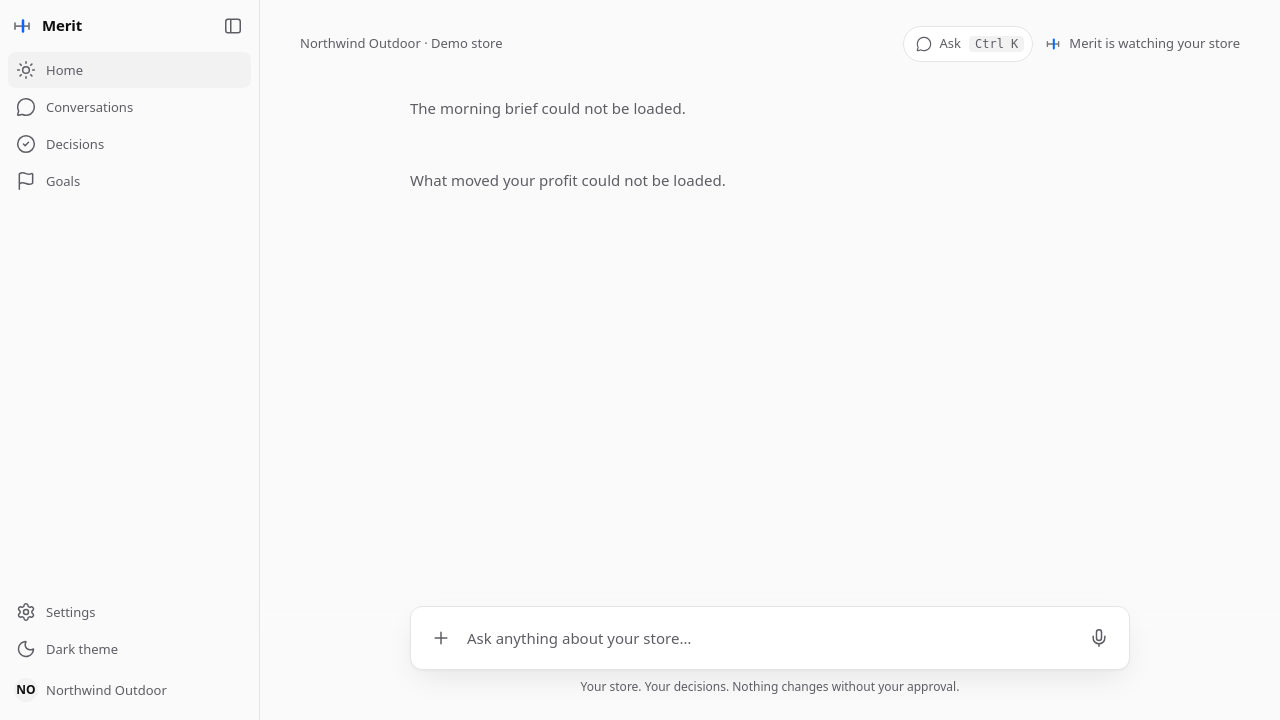
it: the app shell › has four places and Settings at its foot, the current one marked
The width and height of the screenshot is (1280, 720).
Click the link "Conversations": (75, 107) [16,97,133,117]
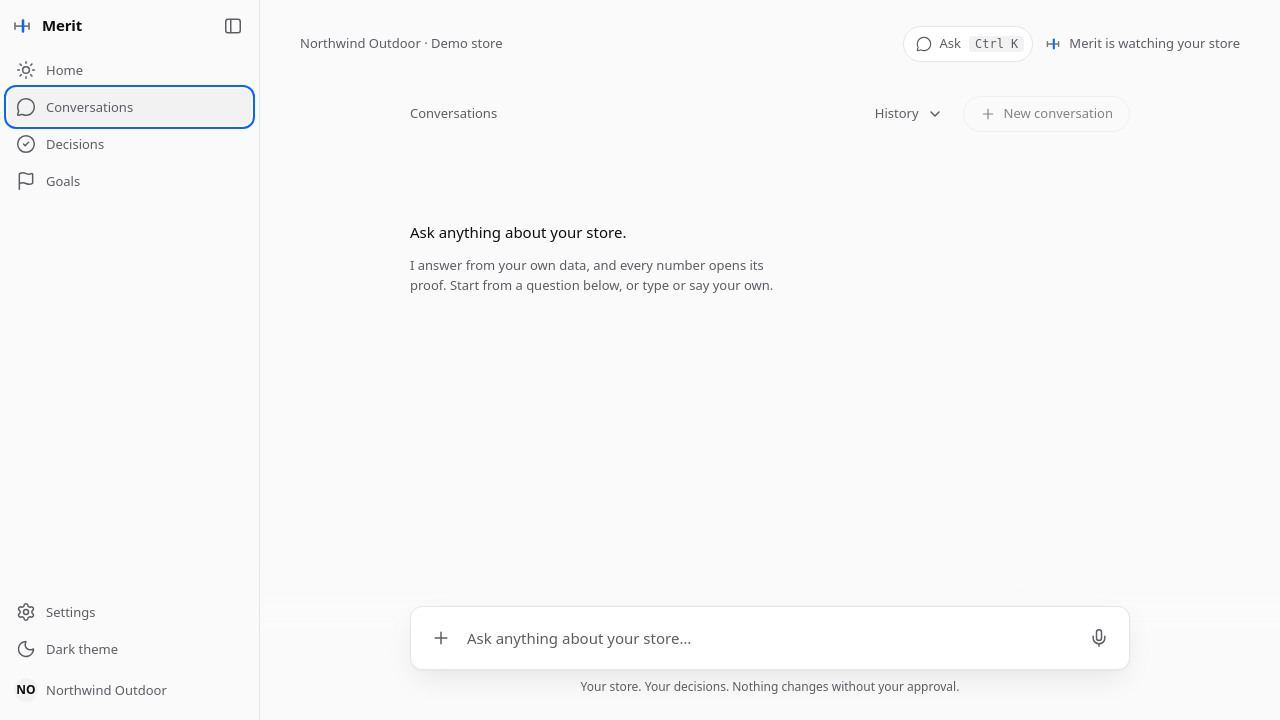
Check: the heading "Conversations" is shown, box [410,104,497,124]
Click the link "Settings": (56, 612) [16,602,96,622]
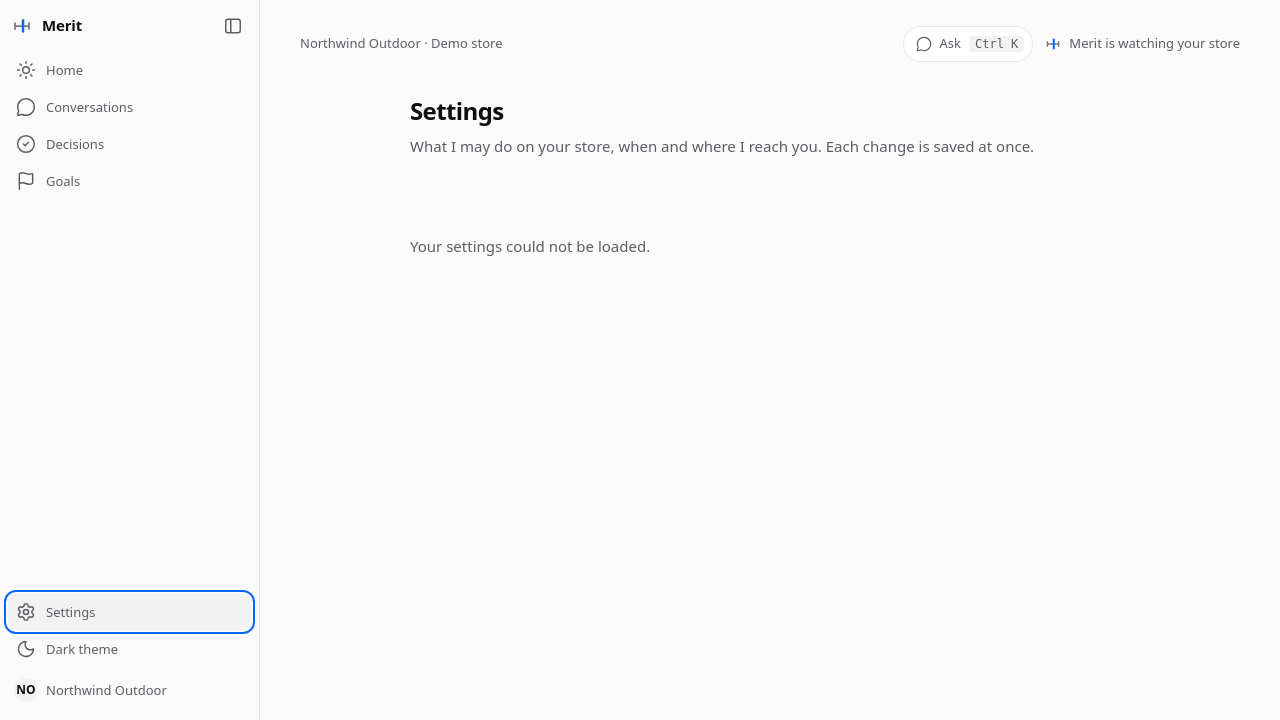
Check: the heading "Settings" is shown, box [410,94,504,127]
